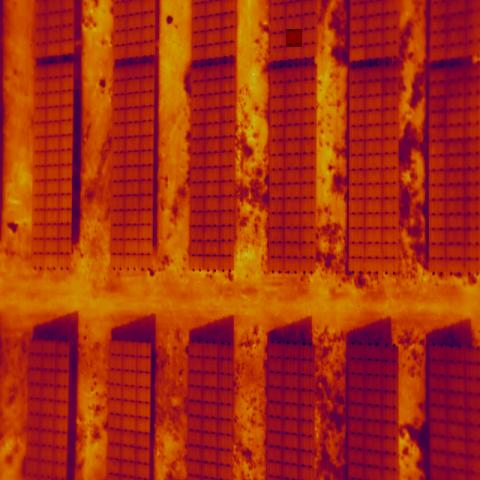fault: (286, 30, 302, 48)
